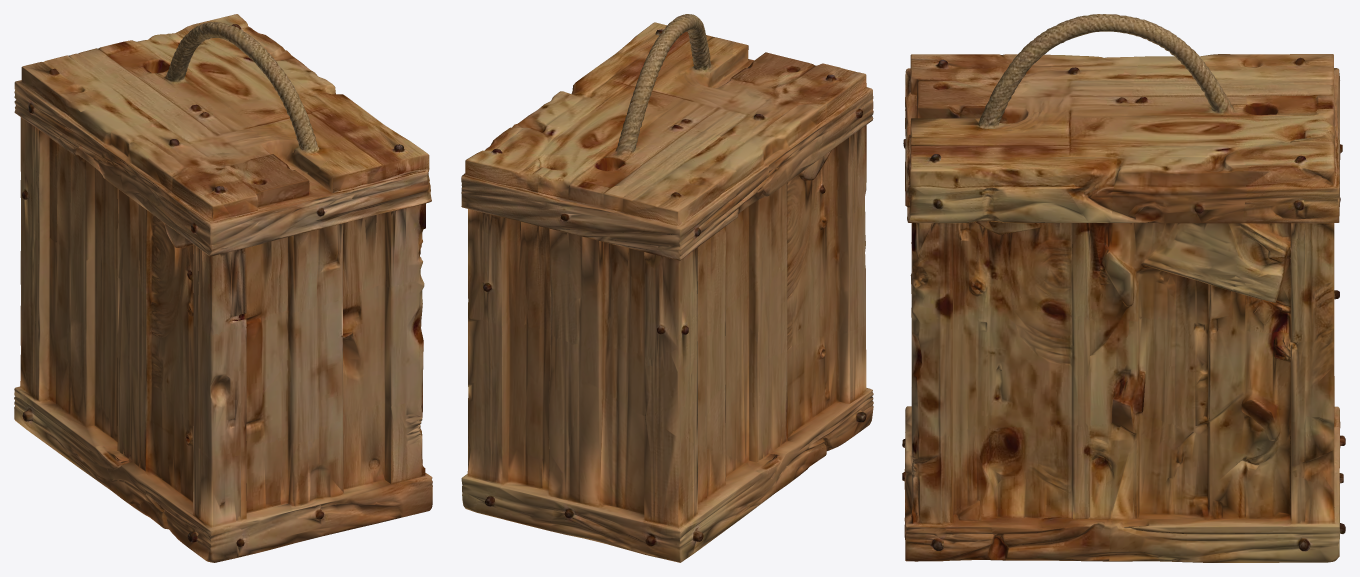
File: caja.glb
3 views of the same model, side by side, from view 1: azimuth 30°, elevation 25°; view 2: azimuth 150°, elevation 25°; view 3: azimuth 270°, elevation 25° (orthographic). The views are drawn at different scales.
Visible parts, largest first — view 1: tripo_node_5d79e9c1-302f-4905-85cc-ac453ee6cfc8; view 2: tripo_node_5d79e9c1-302f-4905-85cc-ac453ee6cfc8; view 3: tripo_node_5d79e9c1-302f-4905-85cc-ac453ee6cfc8.
Boxes of the visible parts, <box> form: tripo_node_5d79e9c1-302f-4905-85cc-ac453ee6cfc8: <box>14,14,432,562</box>; tripo_node_5d79e9c1-302f-4905-85cc-ac453ee6cfc8: <box>461,14,873,562</box>; tripo_node_5d79e9c1-302f-4905-85cc-ac453ee6cfc8: <box>902,14,1345,562</box>.
Bounding box in the file's own units: 0.5528 × 0.9996 × 0.8208.
1 material, 1 textured.
